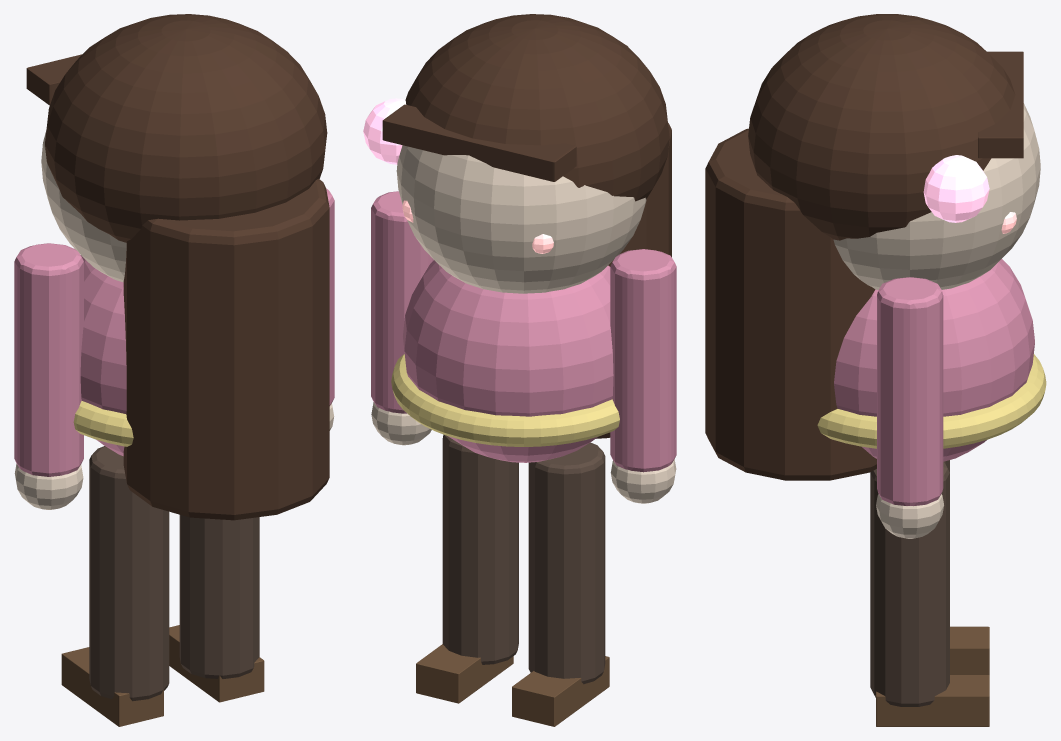
Rendered from chibi_woman.glb.
3 renders of one model, left to right at view 1: azimuth 30°, elevation 25°; view 2: azimuth 150°, elevation 25°; view 3: azimuth 270°, elevation 25°, orthographic. The views are drawn at different scales.
Parts seen in each view (by area): view 1: chibi_woman; view 2: chibi_woman; view 3: chibi_woman.
Part boxes in pixels (box(x1,y1,x2,y2)): chibi_woman: box(14, 14, 334, 726); chibi_woman: box(363, 14, 676, 726); chibi_woman: box(705, 14, 1046, 726).
Bounding box in the file's own units: 0.617 × 1.29 × 0.6.
